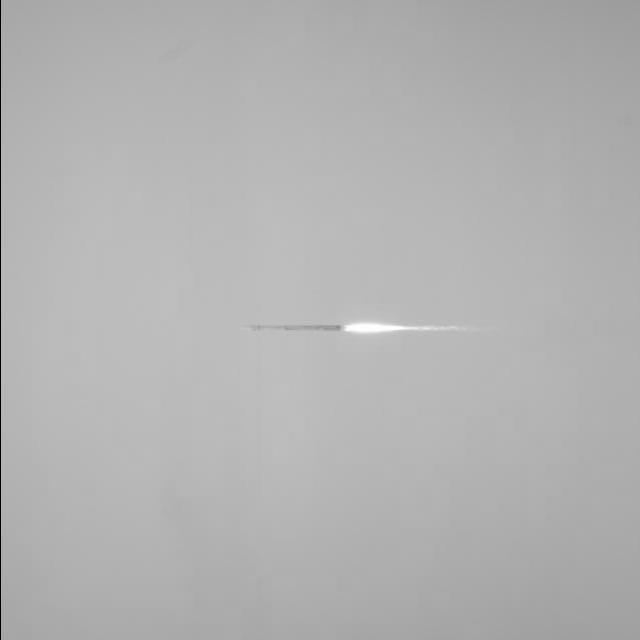missile: (233, 323, 351, 333)
